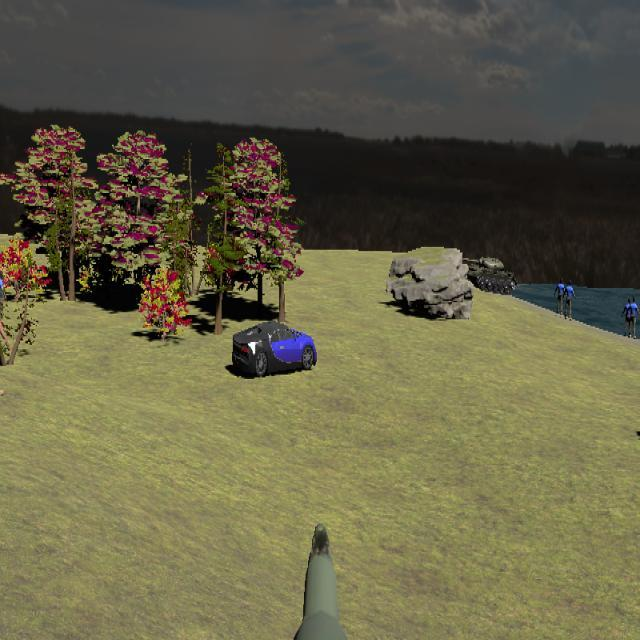Human: (0, 244, 9, 402), (0, 260, 7, 336)
Tank: (459, 254, 518, 296)
car: (231, 320, 317, 379)
